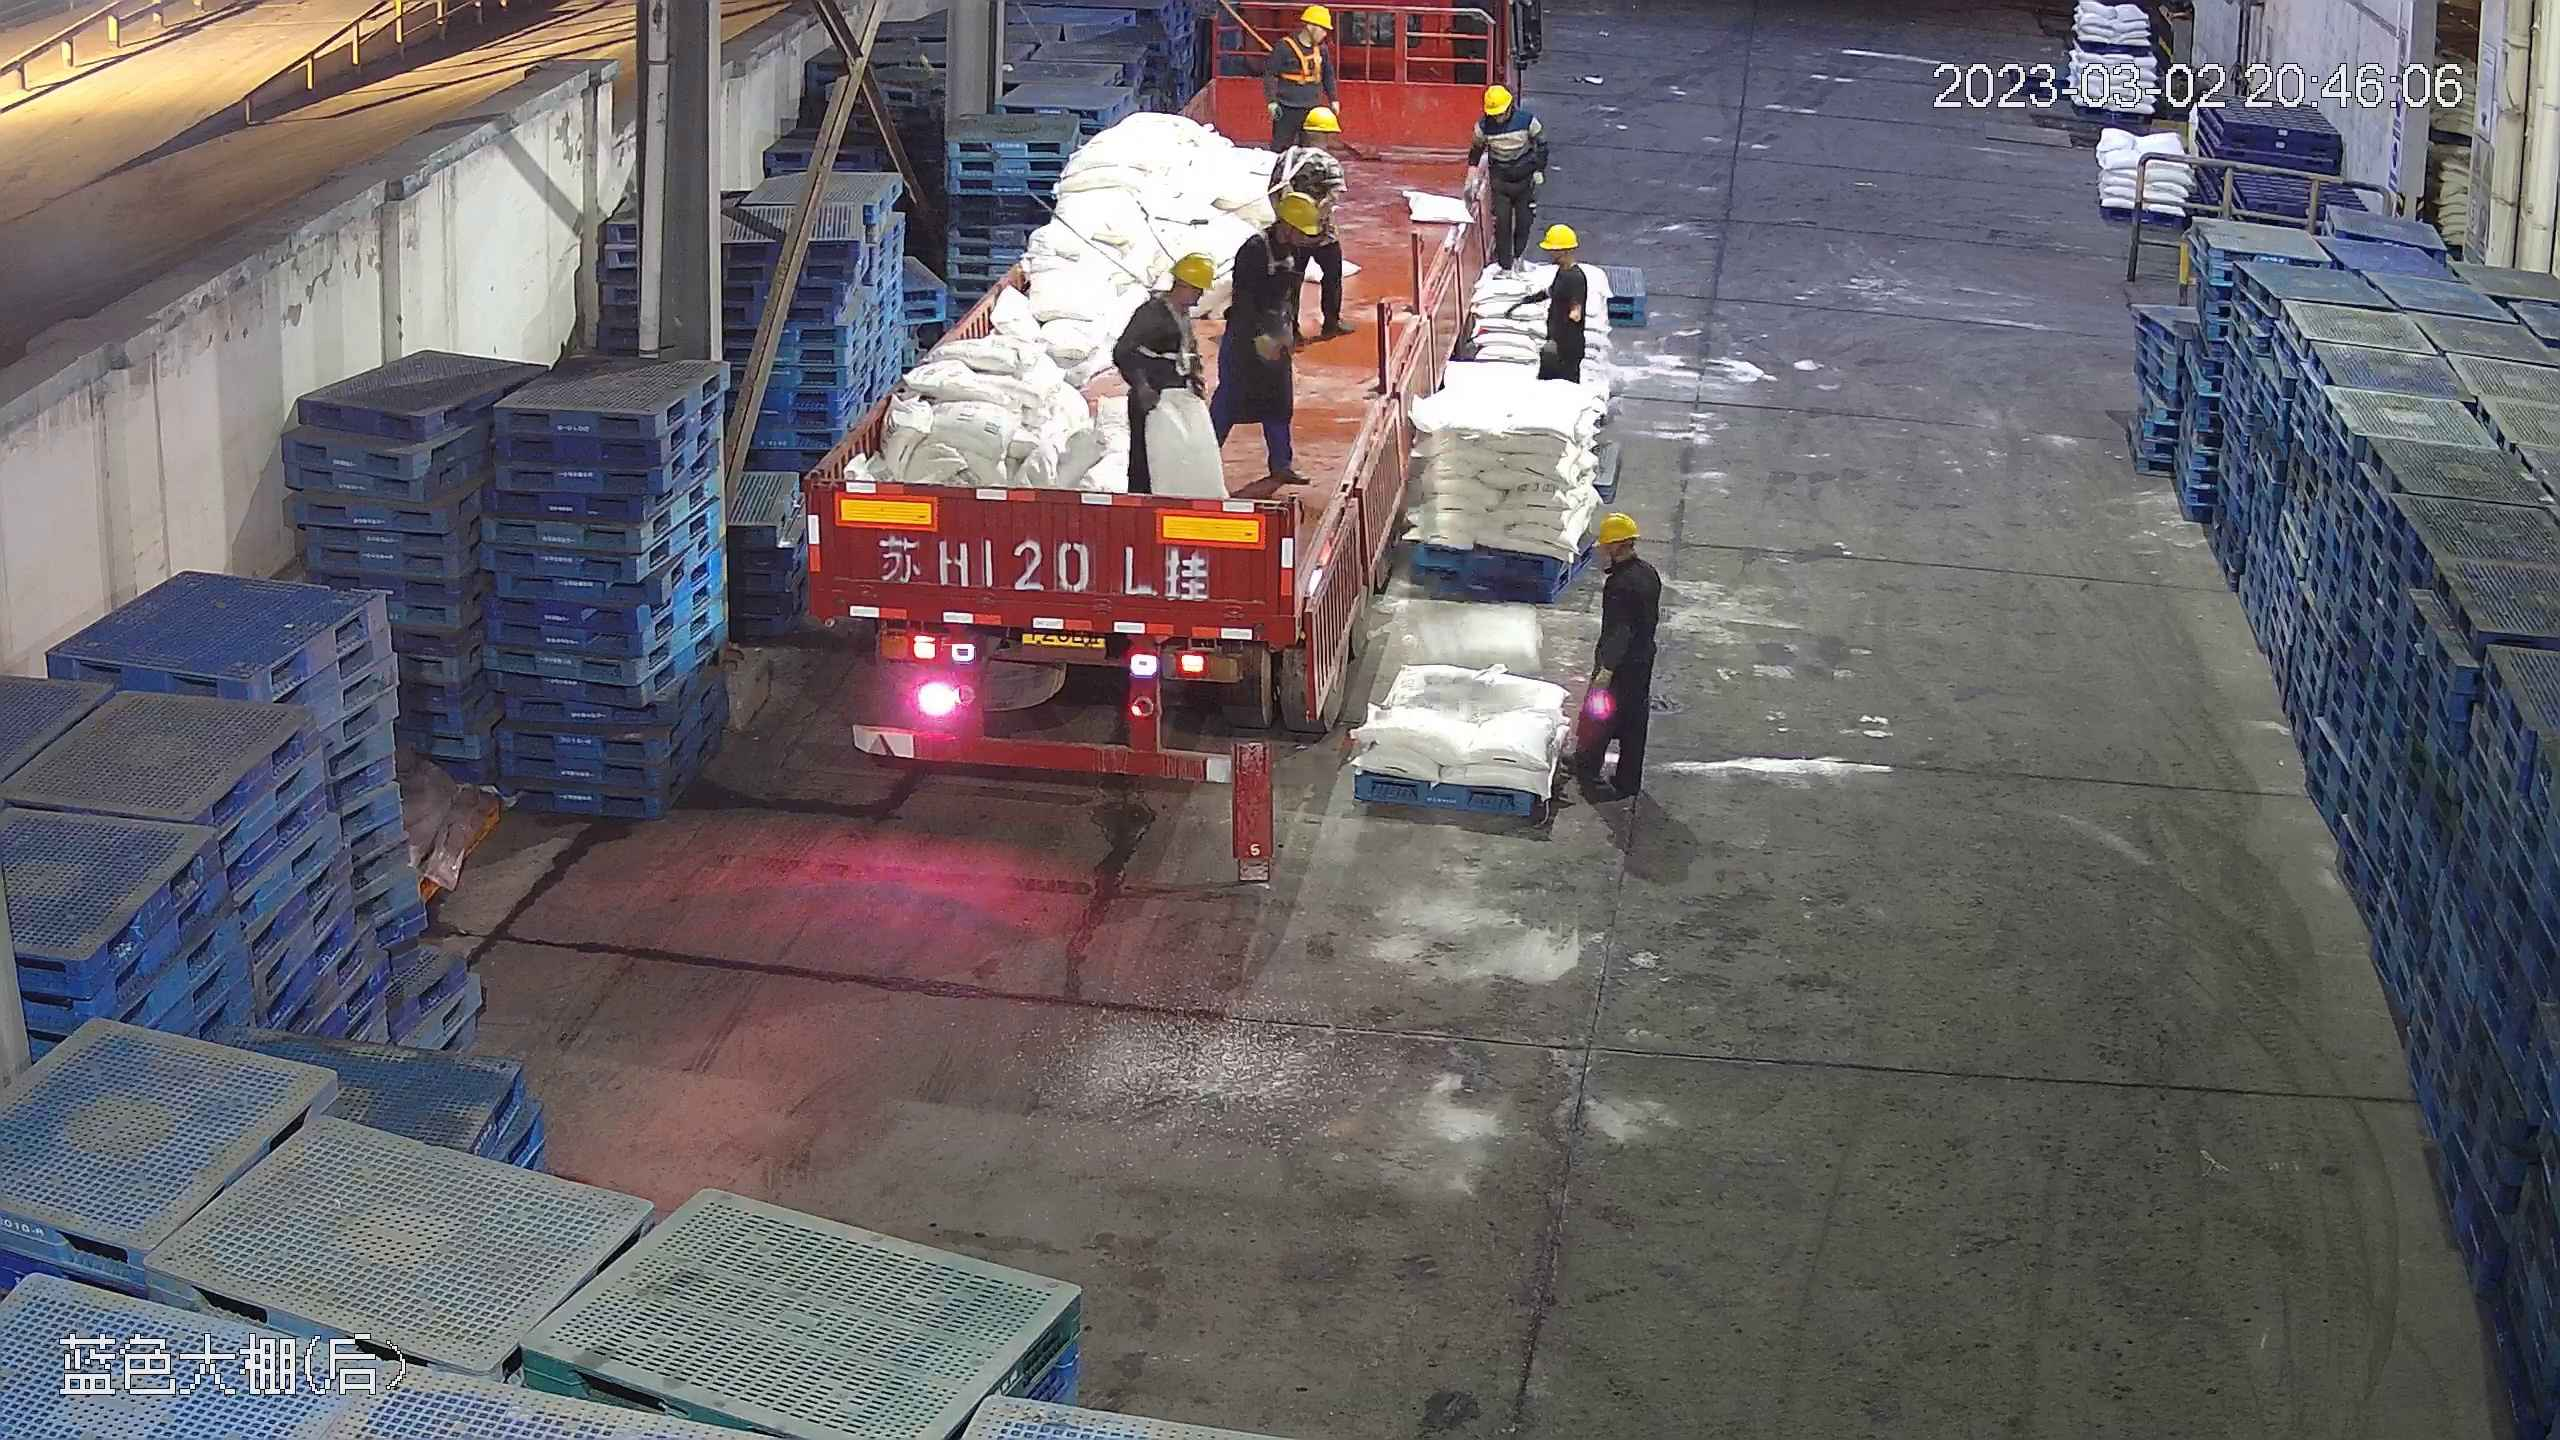belt: (1142, 297, 1204, 372), (1263, 144, 1328, 196), (1280, 34, 1330, 89), (1253, 230, 1307, 277)
head: (1233, 186, 1325, 279), (1127, 249, 1223, 340), (1587, 509, 1660, 608), (1276, 104, 1345, 182), (1473, 84, 1543, 152), (1535, 223, 1594, 296), (1273, 5, 1337, 65)
helmet: (1278, 187, 1323, 237), (1168, 250, 1219, 292), (1591, 511, 1641, 546), (1537, 222, 1577, 251), (1303, 105, 1341, 132), (1478, 84, 1512, 115), (1299, 3, 1332, 27)
people: (1247, 94, 1392, 362), (1209, 186, 1326, 488), (1566, 513, 1662, 812), (1111, 245, 1220, 503), (1465, 82, 1548, 280), (1260, 1, 1341, 180), (1526, 221, 1594, 392)
truck: (808, 13, 1488, 772)
